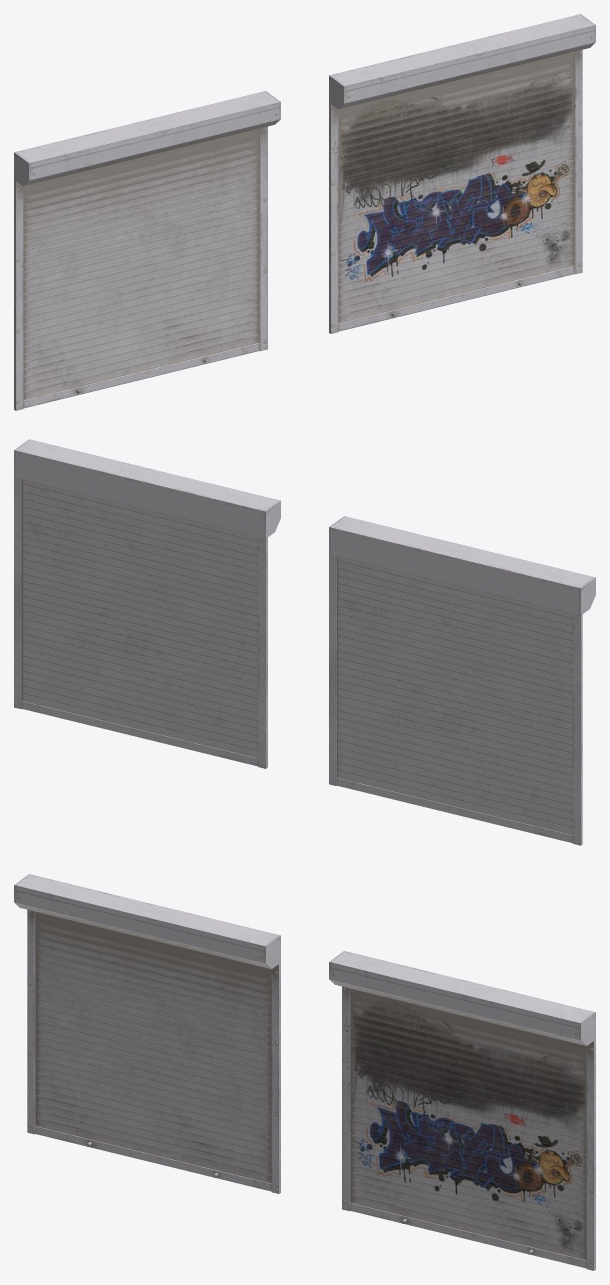
3 renders of one model, top to bottom at view 1: azimuth 30°, elevation 25°; view 2: azimuth 150°, elevation 25°; view 3: azimuth 330°, elevation 25°, orthographic.
Visible parts, largest first — view 1: rollershutter_window_02_graffiti, rollershutter_window_02; view 2: rollershutter_window_02, rollershutter_window_02_graffiti; view 3: rollershutter_window_02, rollershutter_window_02_graffiti.
Part boxes in pixels (bbox=[...]): rollershutter_window_02_graffiti: bbox=[329, 14, 595, 333]; rollershutter_window_02: bbox=[14, 91, 280, 410]; rollershutter_window_02: bbox=[329, 516, 595, 845]; rollershutter_window_02_graffiti: bbox=[14, 439, 280, 768]; rollershutter_window_02: bbox=[14, 874, 280, 1193]; rollershutter_window_02_graffiti: bbox=[329, 951, 595, 1270].
Size of the model in its own units: 3.6 by 1.56 by 0.1681.
2 materials, 2 textured.
